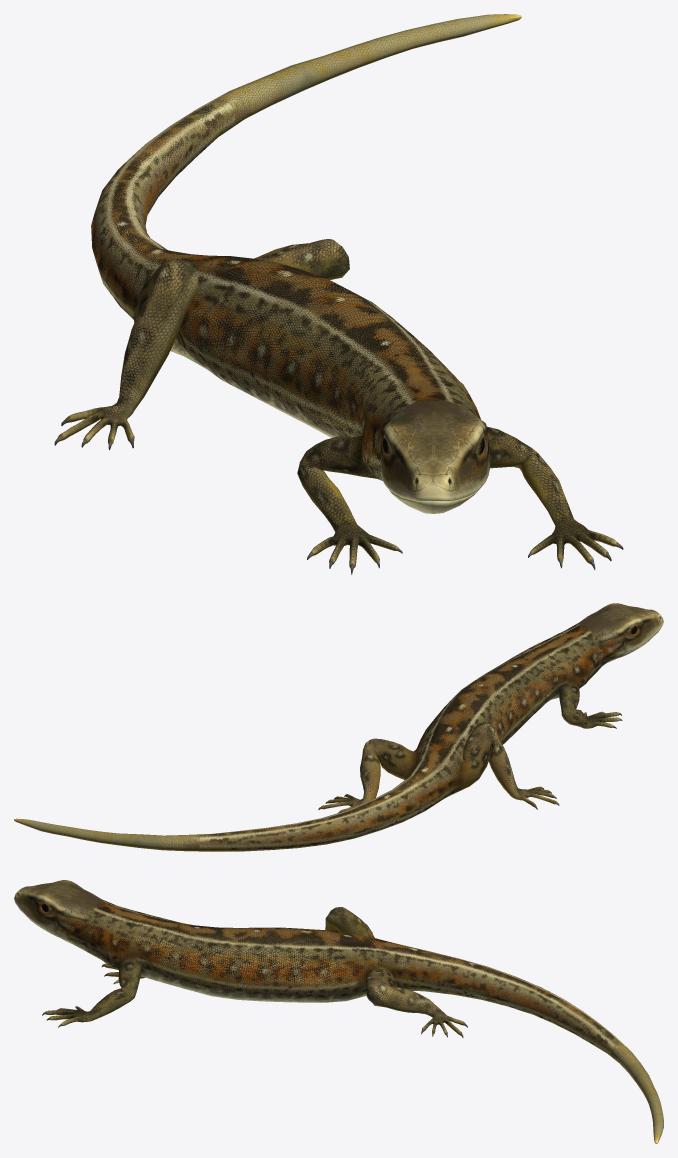
Rendered from Running237.obj.
The picture shows the model from 3 angles, top to bottom: view 1: azimuth 30°, elevation 25°; view 2: azimuth 150°, elevation 25°; view 3: azimuth 270°, elevation 25°; orthographic projection. The views are drawn at different scales.
Parts seen in each view (by area): view 1: Lizard; view 2: Lizard; view 3: Lizard.
Part boxes in pixels (left/top/right/bottom): Lizard: left=54, top=14, right=623, bottom=574; Lizard: left=14, top=603, right=663, bottom=851; Lizard: left=14, top=880, right=663, bottom=1143.
Bounding box in the file's own units: 55.93 × 12.04 × 76.29.
